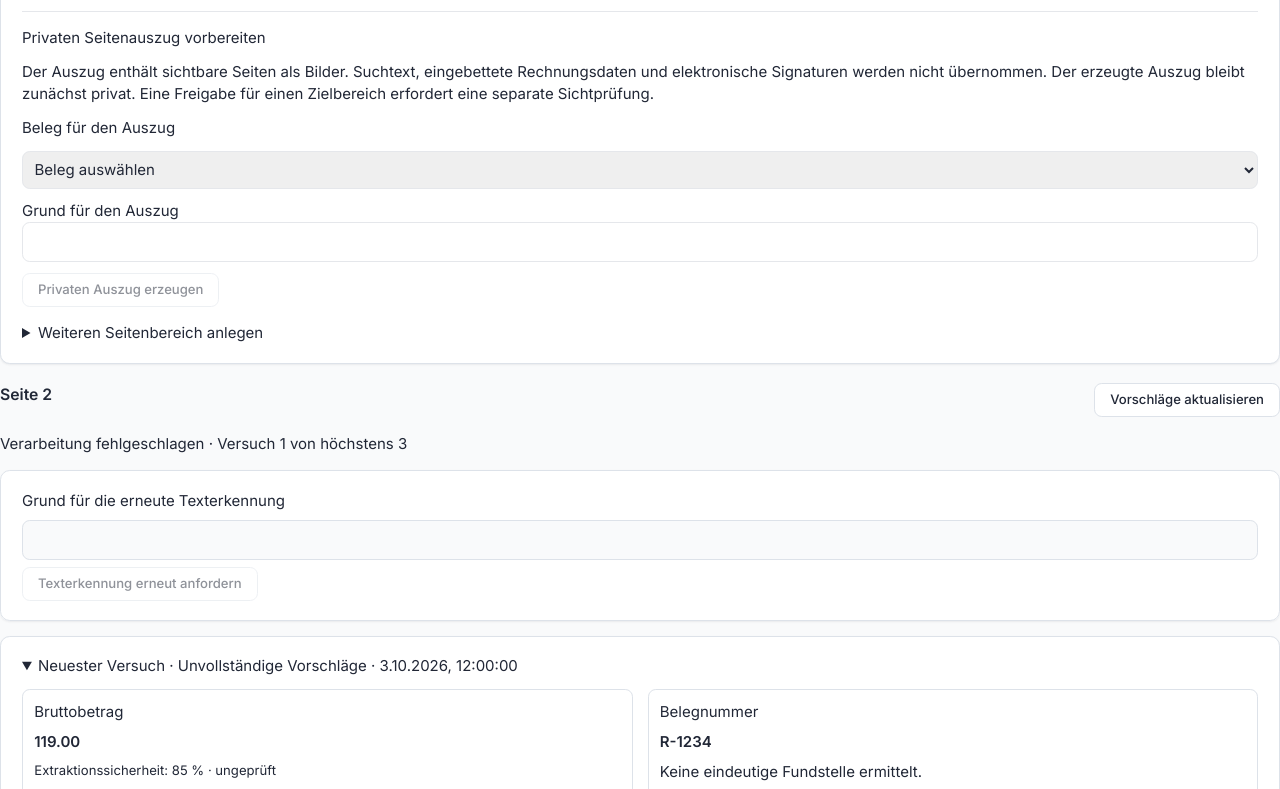
clears quotes and source selection after access revocation
The width and height of the screenshot is (1280, 789).
(page scrolled)
What coordinates should you click on to do the following:
click the button "Vorschläge aktualisieren"
I would click on:
 (1187, 400)
Its box is [1094, 383, 1279, 417].
(page scrolled)
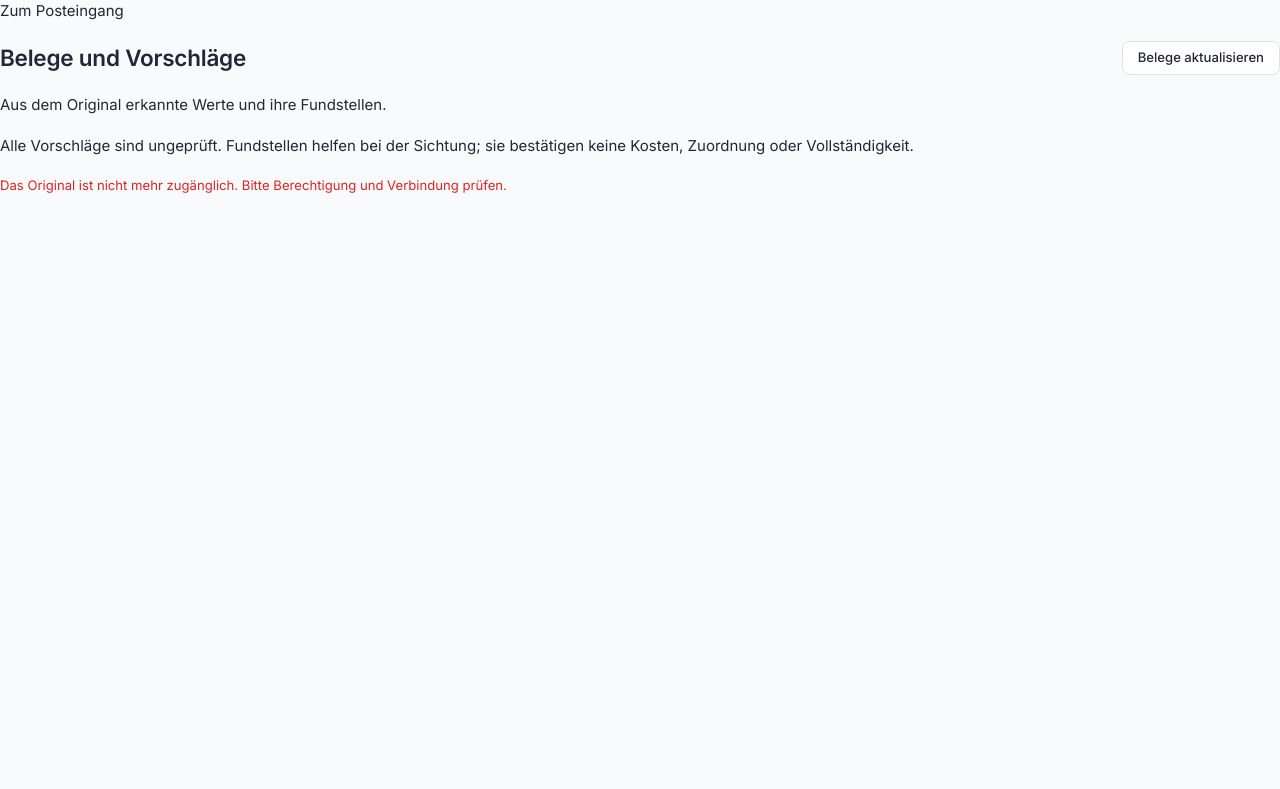
Check: the text "Original ist nicht mehr zugänglich" is shown, box [0, 177, 507, 193]
